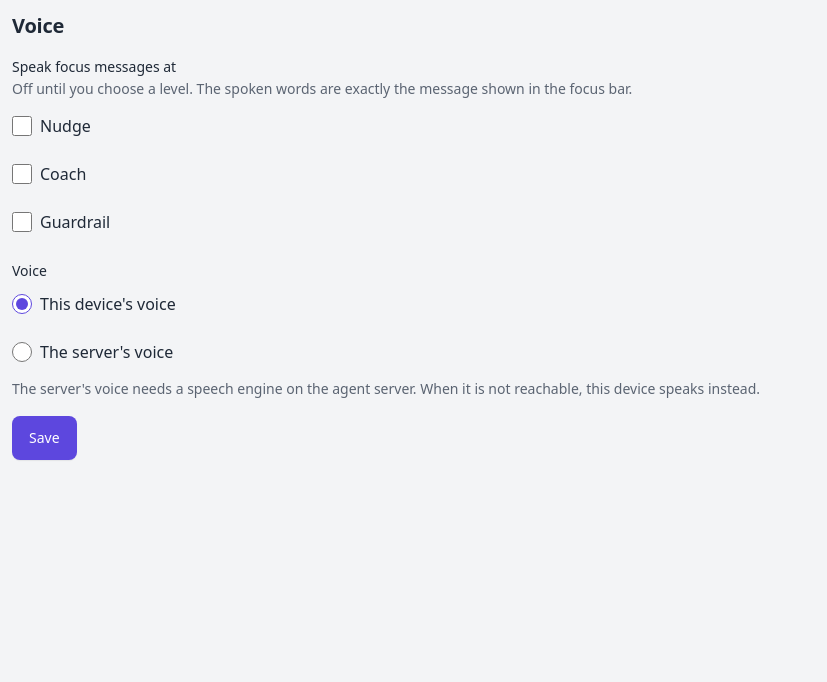
Scenario: [P4-03][FR-11.7] voice is off by default and saves the chosen levels and engine
Check: the checkbox labelled "Coach" is not checked, box [12,164,32,184]
Check: the radio button labelled "This device's voice" is checked, box [12,294,32,314]
Click the checkbox labelled "Nudge". click: (22, 126)
box: [12,116,32,136]
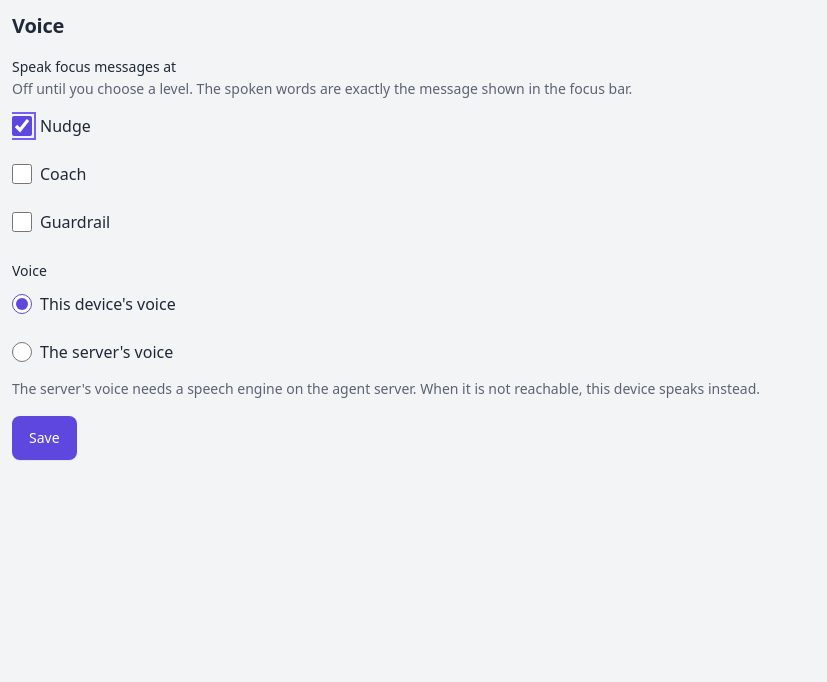
Click the radio button labelled "The server's voice". click: (22, 352)
box: [12,342,32,362]
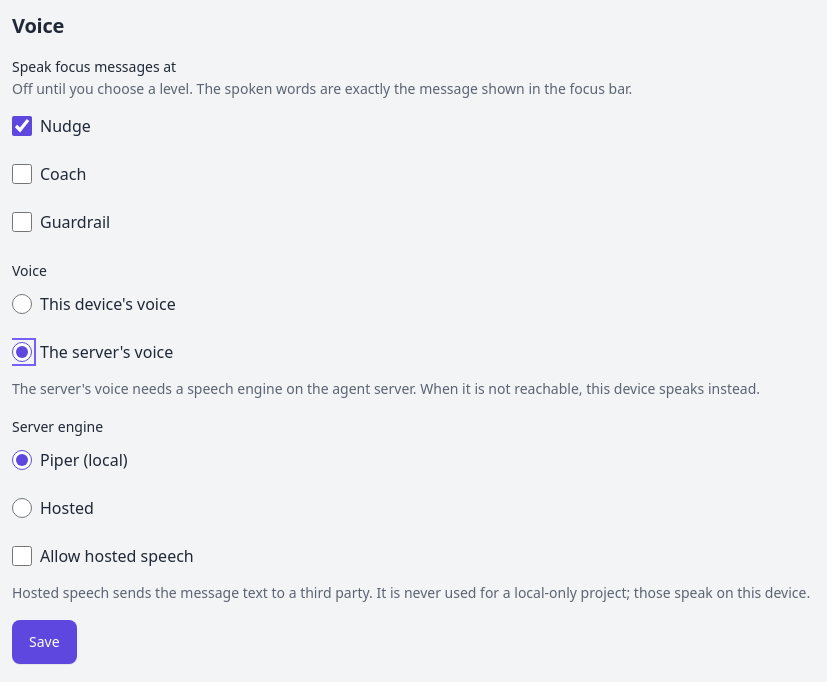
Check: the radio button labelled "Piper (local)" is checked, box [12,450,32,470]
Check: the checkbox labelled "Allow hosted speech" is not checked, box [12,546,32,566]
Click the button "Save". click: (44, 642)
box: [12,620,77,664]
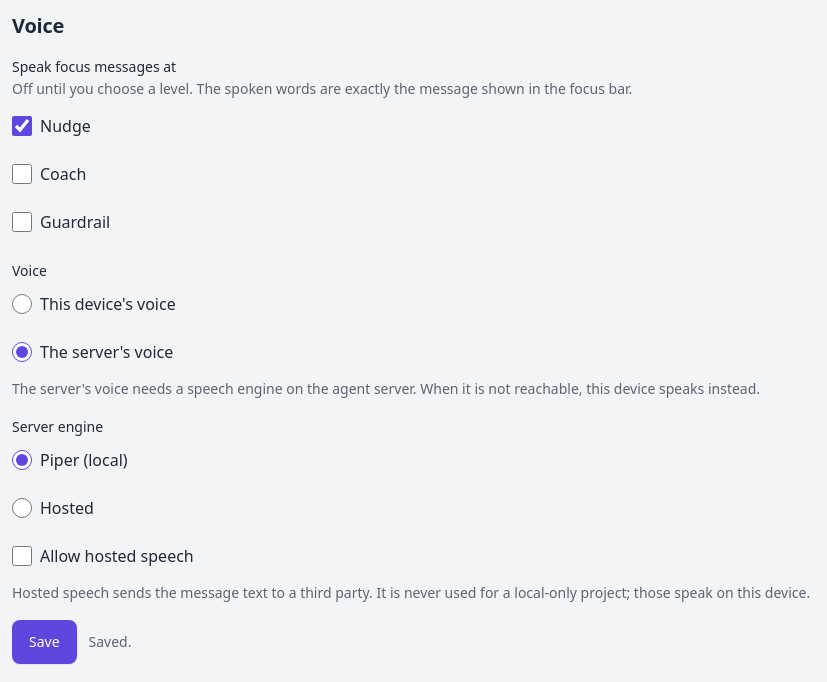
Check: the message reads "Saved.", box [89,632,132,651]
